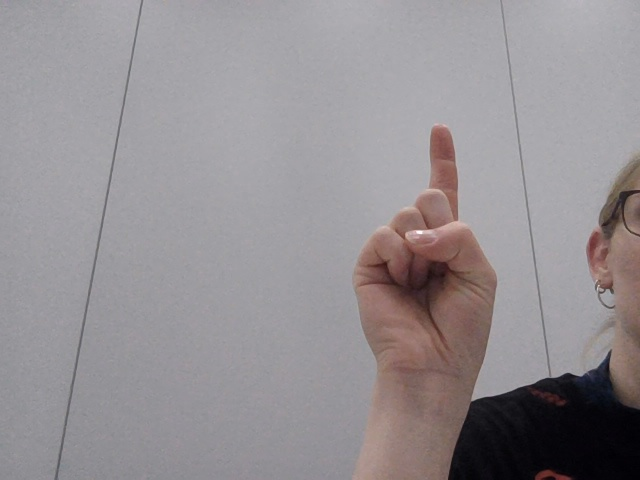up: (294, 111, 570, 387)
